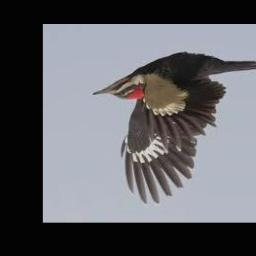Woodpecker: (91, 54, 256, 204)
